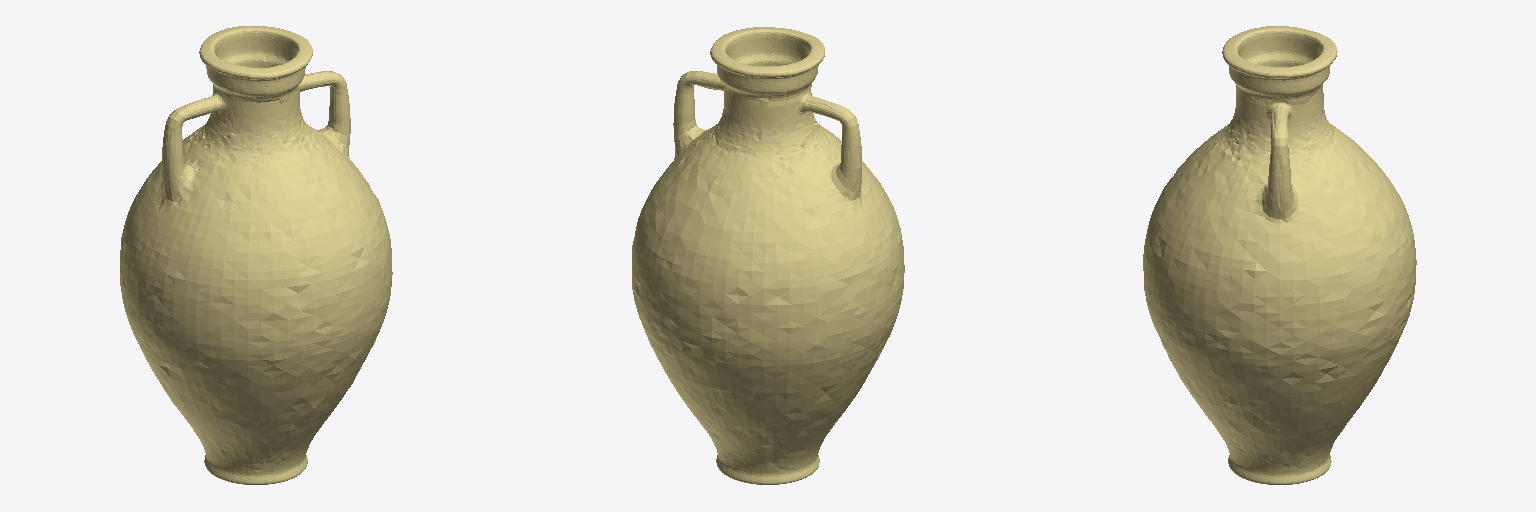
Rendered from roman_pottery_2.obj.
3 views of the same model, side by side, from view 1: azimuth 30°, elevation 25°; view 2: azimuth 150°, elevation 25°; view 3: azimuth 270°, elevation 25° (orthographic).
Visible parts, largest first — view 1: romanpottery1; view 2: romanpottery1; view 3: romanpottery1.
Boxes of the visible parts, <box> form: romanpottery1: <box>120,26,392,484</box>; romanpottery1: <box>632,27,904,484</box>; romanpottery1: <box>1143,26,1416,484</box>.
Size of the model in its own units: 0.5882 by 0.9901 by 0.588.